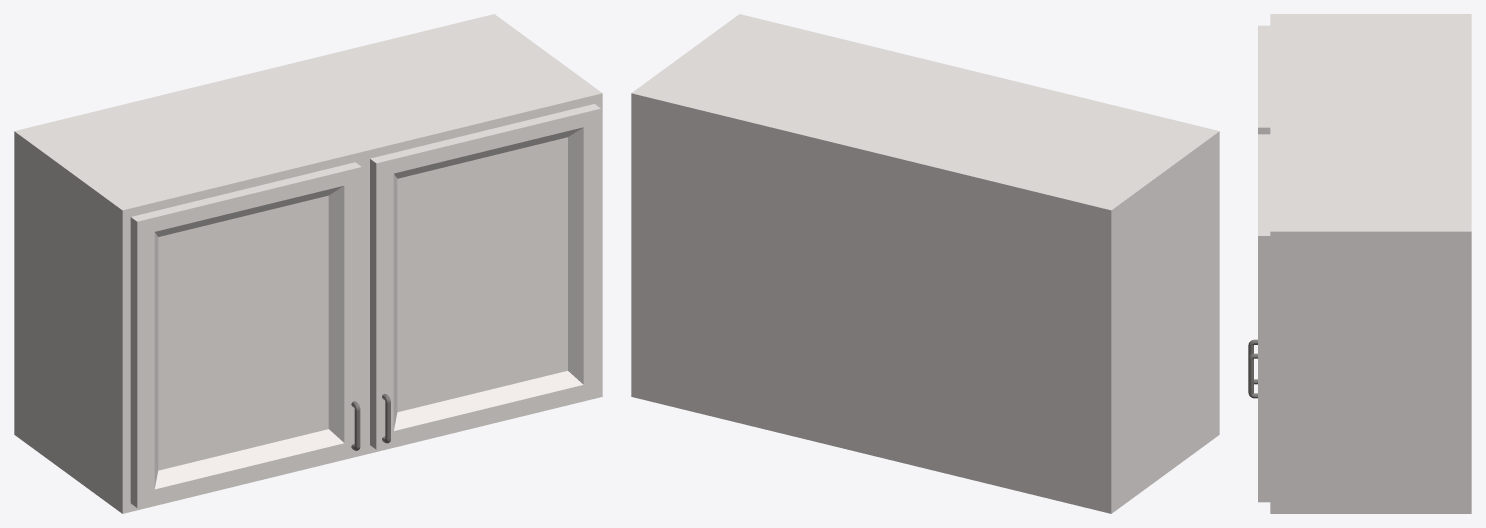
Rendered from Kitchen Tabletop_16.fbx.
The picture shows the model from 3 angles, left to right: view 1: azimuth 30°, elevation 25°; view 2: azimuth 150°, elevation 25°; view 3: azimuth 270°, elevation 25°; orthographic projection. The views are drawn at different scales.
Parts seen in each view (by area): view 1: Kitchen Tabletop_16; view 2: Kitchen Tabletop_16; view 3: Kitchen Tabletop_16.
Part boxes in pixels (x1,y1,x2,y2): Kitchen Tabletop_16: (14, 14, 602, 513); Kitchen Tabletop_16: (631, 14, 1219, 513); Kitchen Tabletop_16: (1248, 14, 1471, 513).
Size of the model in its own units: 99.38 by 60.04 by 43.01.
